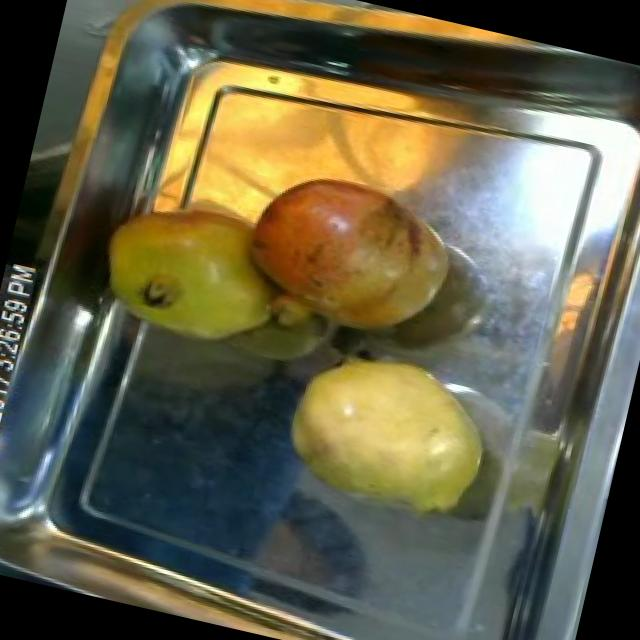fruit: (256, 323, 521, 550), (226, 154, 472, 358), (82, 182, 296, 364)
